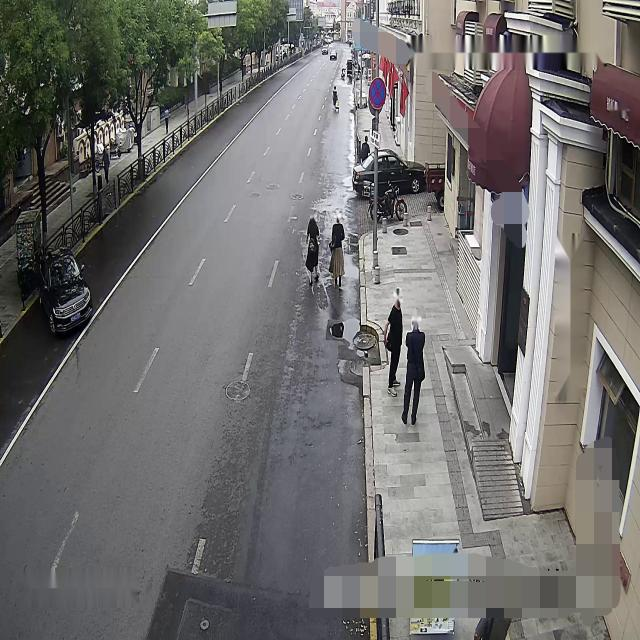sunshade: (464, 61, 533, 194)
